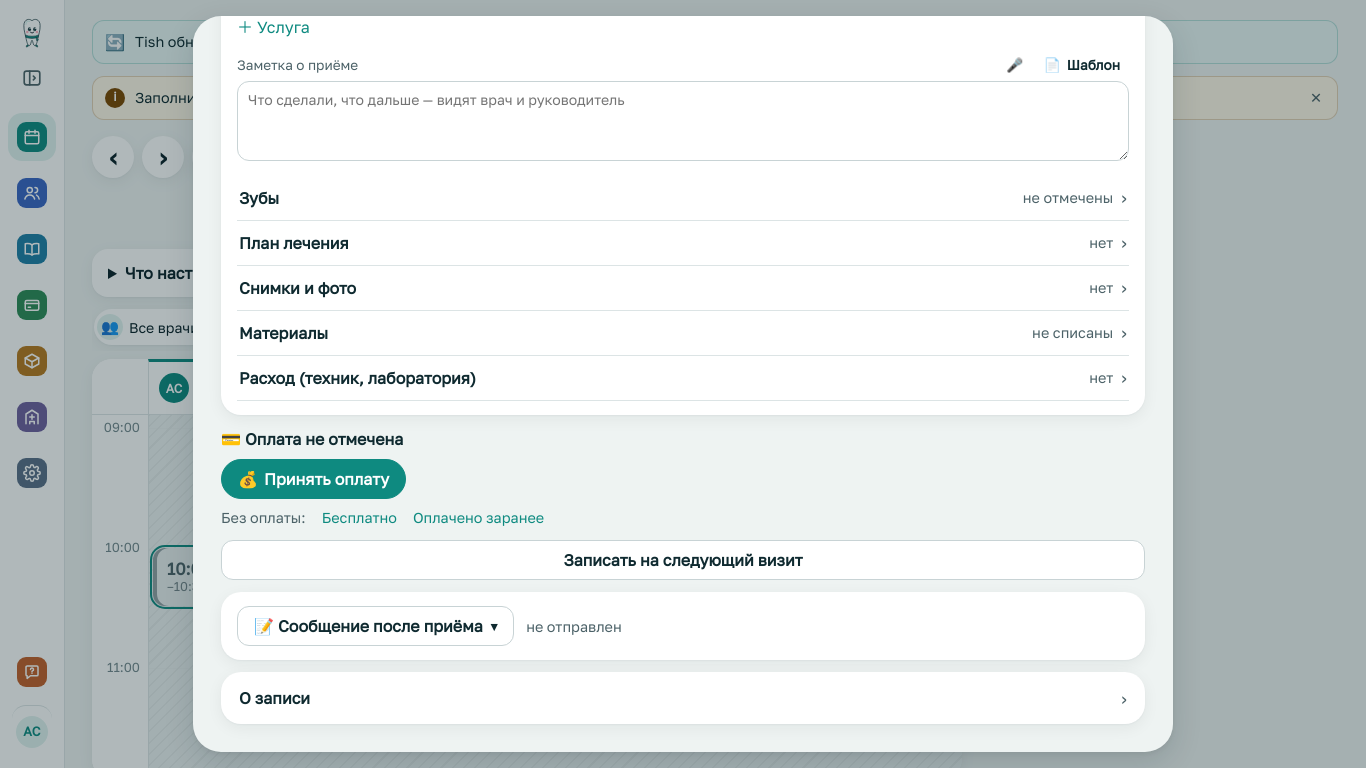
Scenario: оплата: скидка по метке › подставлена сама: 10 %, «Другое» с названием метки; сохраняется как обычная скидка
Earlier steps of the test are not shown.
Later steps or results of the test are not shown.
(page scrolled)
Click the button "💰 Принять оплату" at (314, 479), box [221,459,406,499]
(page scrolled)
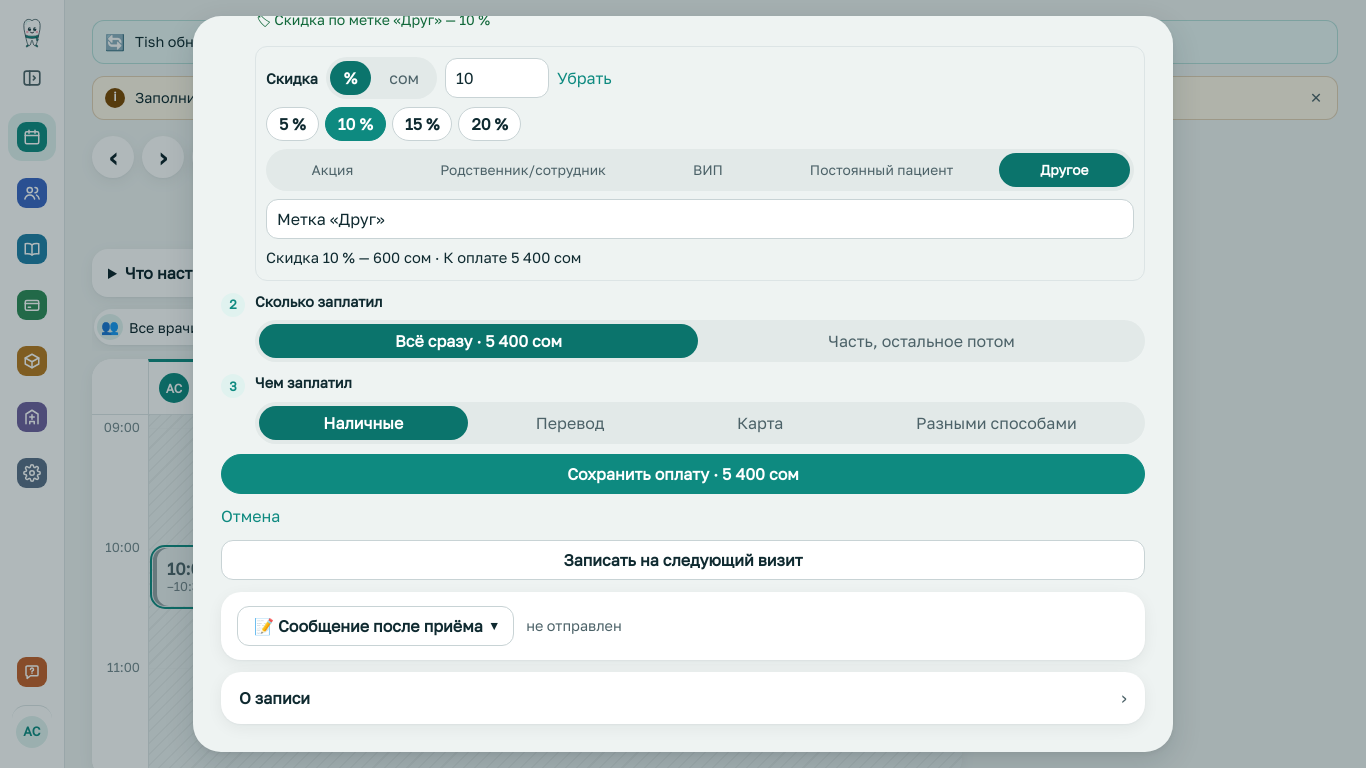
Expected: the number field named "Скидка, %" holds "10", [445,58,549,98]
Expected: the field named "Комментарий к скидке" holds "Метка «Друг»", [266,200,1134,240]
Expected: the text "🏷 Скидка по метке «Друг» — 10 %" is shown, [255,16,490,28]
